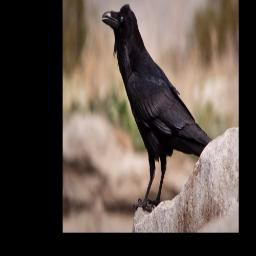Crow: (100, 0, 213, 209)
